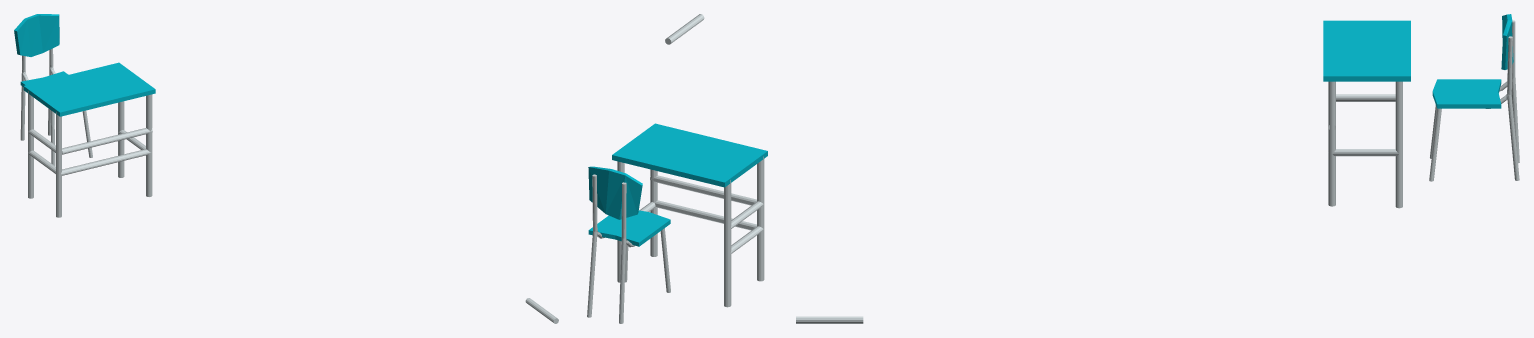
File: BancoAlumnos.glb
3 views of the same model, side by side, from view 1: azimuth 30°, elevation 25°; view 2: azimuth 150°, elevation 25°; view 3: azimuth 270°, elevation 25° (orthographic). The views are drawn at different scales.
Visible parts, largest first — view 1: group1142061466, group1920711641, group1854136480, group480697298, group1789292237, group657094310, group1392494020, group1374110618; view 2: group1142061466, group1920711641, group1392494020, group657094310, group480697298, group1789292237, group1854136480, group455884042, group1074460276, group1527351325, group1374110618; view 3: group1142061466, group1920711641, group1374110618, group1854136480, group455884042.
Boxes of the visible parts, bbox=[...] form: group1142061466: bbox=[23, 62, 155, 116]; group1920711641: bbox=[14, 14, 92, 165]; group1854136480: bbox=[146, 94, 152, 196]; group480697298: bbox=[62, 128, 152, 154]; group1789292237: bbox=[61, 149, 151, 175]; group657094310: bbox=[56, 112, 61, 217]; group1392494020: bbox=[28, 91, 33, 198]; group1374110618: bbox=[118, 101, 124, 177]; group1142061466: bbox=[612, 123, 767, 187]; group1920711641: bbox=[587, 166, 670, 323]; group1392494020: bbox=[724, 180, 731, 307]; group657094310: bbox=[757, 156, 764, 281]; group480697298: bbox=[650, 175, 756, 205]; group1789292237: bbox=[654, 200, 756, 230]; group1854136480: bbox=[650, 169, 657, 256]; group455884042: bbox=[665, 14, 704, 44]; group1074460276: bbox=[731, 226, 763, 253]; group1527351325: bbox=[731, 201, 763, 228]; group1374110618: bbox=[617, 161, 624, 282]; group1142061466: bbox=[1323, 20, 1410, 81]; group1920711641: bbox=[1429, 14, 1519, 181]; group1374110618: bbox=[1395, 81, 1402, 208]; group1854136480: bbox=[1328, 81, 1335, 206]; group455884042: bbox=[796, 316, 863, 323].
Size of the model in its own units: 2.89 by 1.44 by 5.41.
